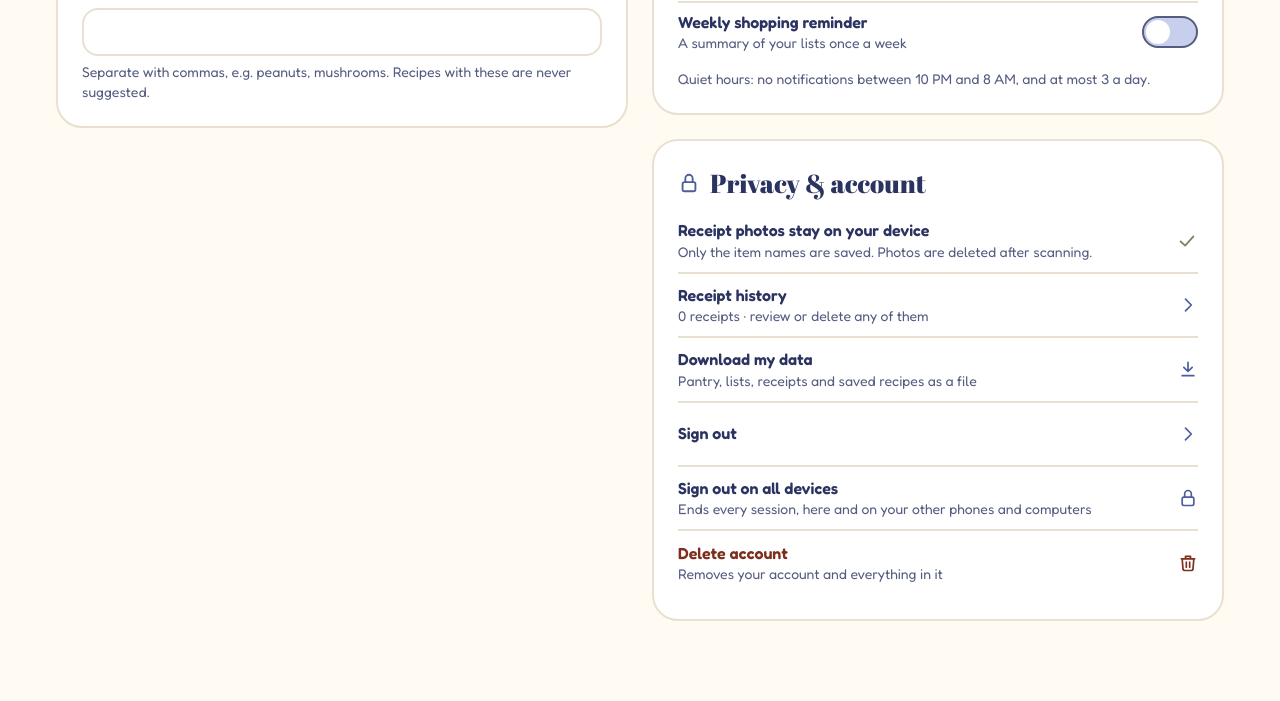
Test: ProfilePage › PRO-6 stays signed in and explains when sign-out fails
The width and height of the screenshot is (1280, 701).
(page scrolled)
What coordinates should you click on to do the following:
click the button "Sign out"
I would click on:
 (707, 433)
Its box is x1=678 y1=403 x2=1198 y2=467.
(page scrolled)
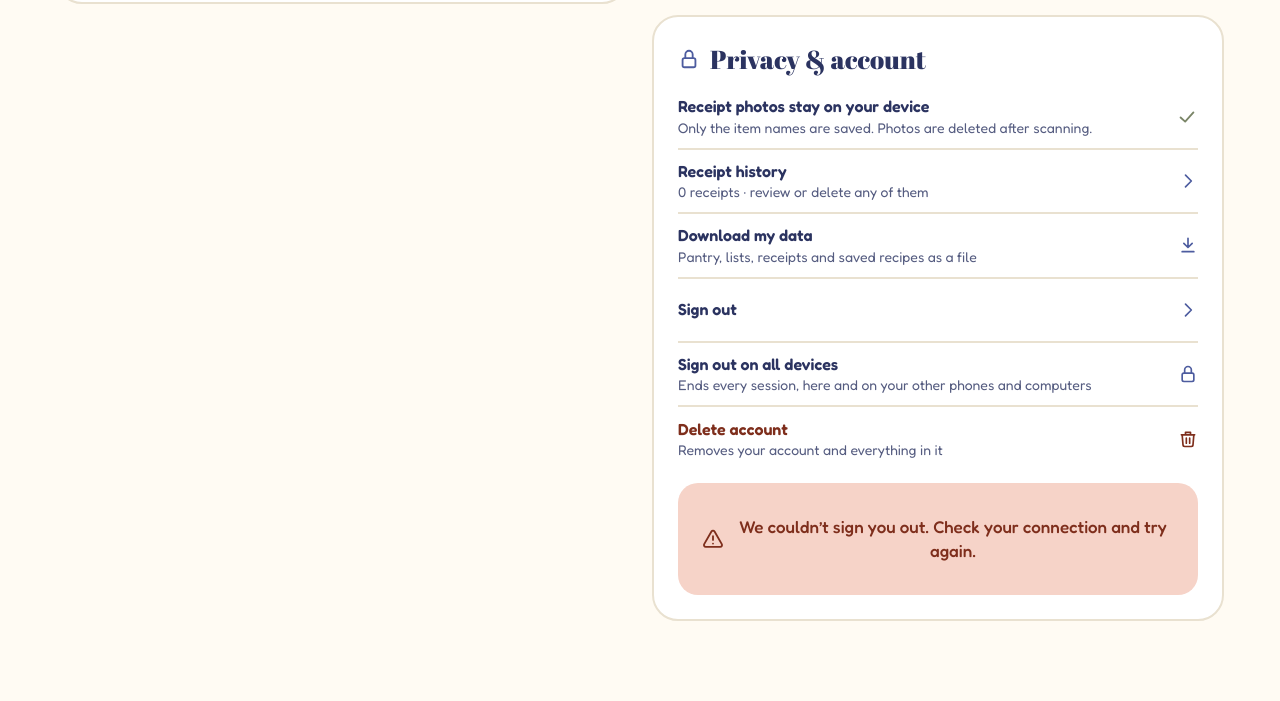
Now the message shows "We couldn’t sign you out", box x1=739 y1=516 x2=1167 y2=561
